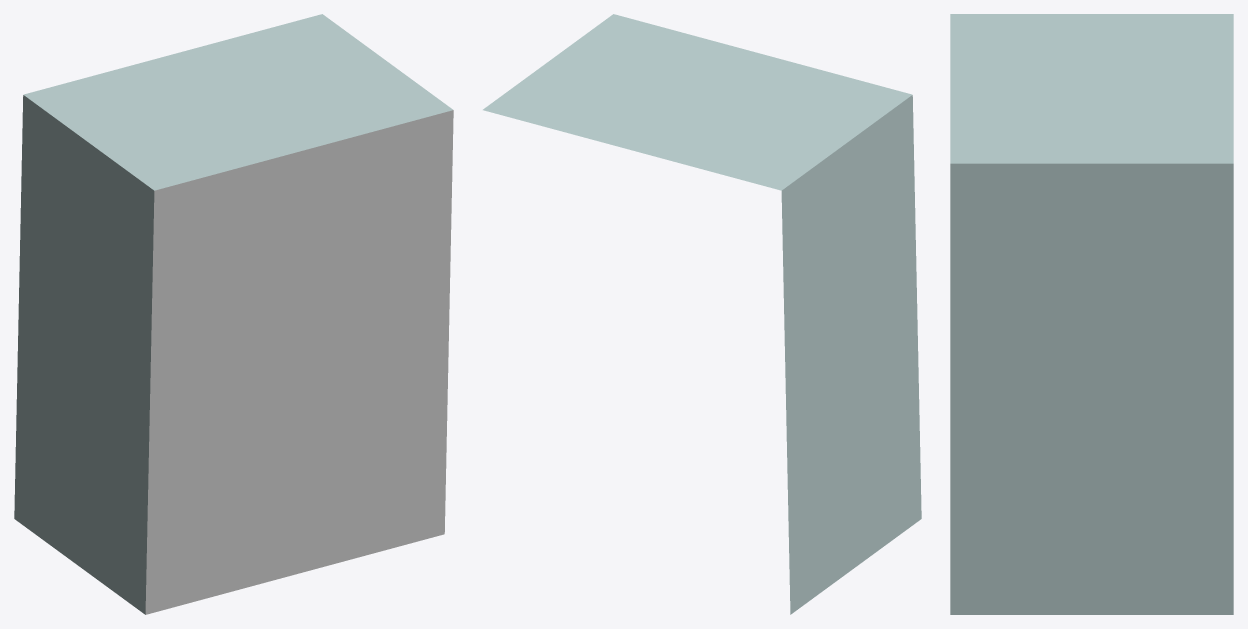
3 renders of one model, left to right at view 1: azimuth 30°, elevation 25°; view 2: azimuth 150°, elevation 25°; view 3: azimuth 270°, elevation 25°, orthographic. The views are drawn at different scales.
Visible parts, largest first — view 1: 0_2_1_2_3_3_2_0_2; view 2: 0_2_1_2_3_3_2_0_2; view 3: 0_2_1_2_3_3_2_0_2.
Part boxes in pixels (left/top/right/bottom): 0_2_1_2_3_3_2_0_2: left=14, top=14, right=453, bottom=614; 0_2_1_2_3_3_2_0_2: left=483, top=14, right=921, bottom=614; 0_2_1_2_3_3_2_0_2: left=950, top=14, right=1233, bottom=614.
Size of the model in its own units: 4.07 by 5.42 by 3.
